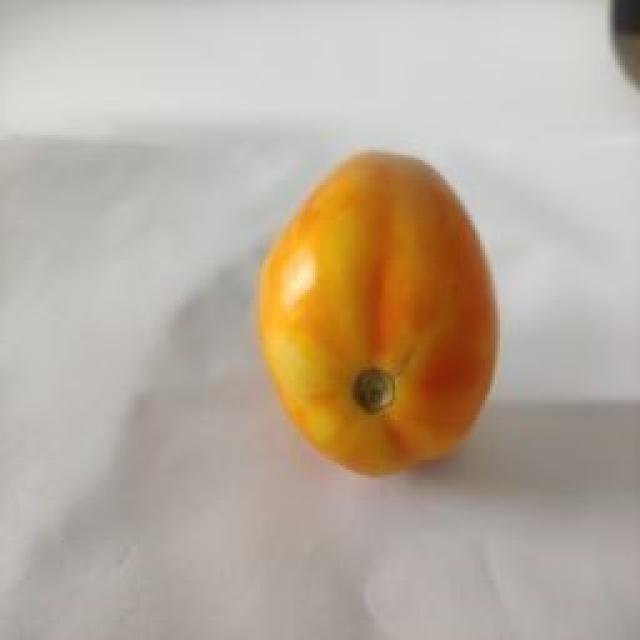unripe: (170, 158, 448, 412)
